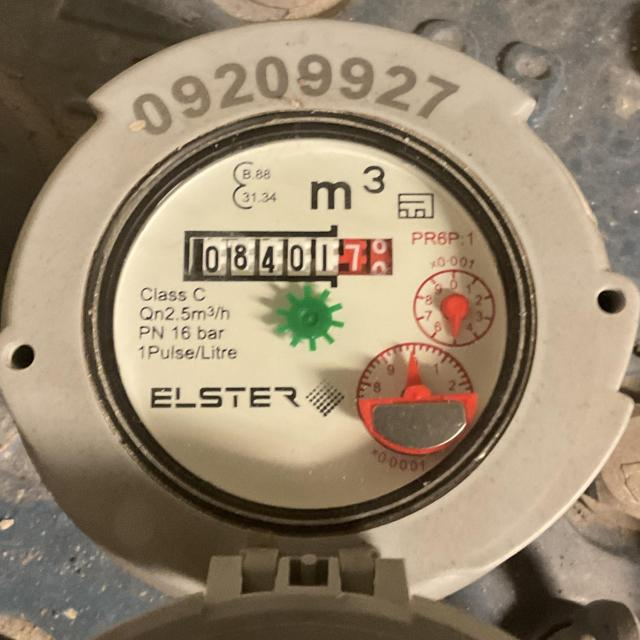gaz_meter: (117, 122, 517, 515)
indication: (186, 233, 391, 282)
